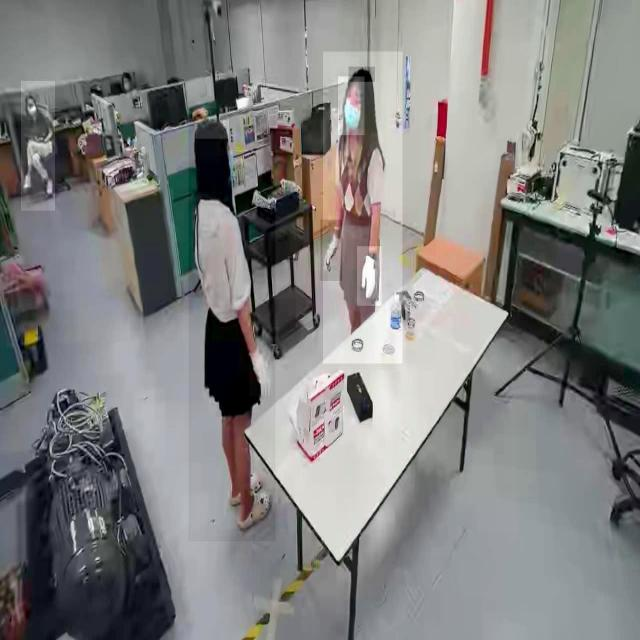face_mask: (338, 77, 364, 135), (25, 102, 37, 120)
hand_glove: (356, 246, 382, 307), (320, 220, 342, 282), (248, 342, 270, 398)
head_nohelmet: (195, 116, 229, 140), (348, 66, 375, 82), (24, 94, 36, 102)
person: (188, 108, 276, 542), (322, 52, 402, 364), (21, 81, 55, 211)
